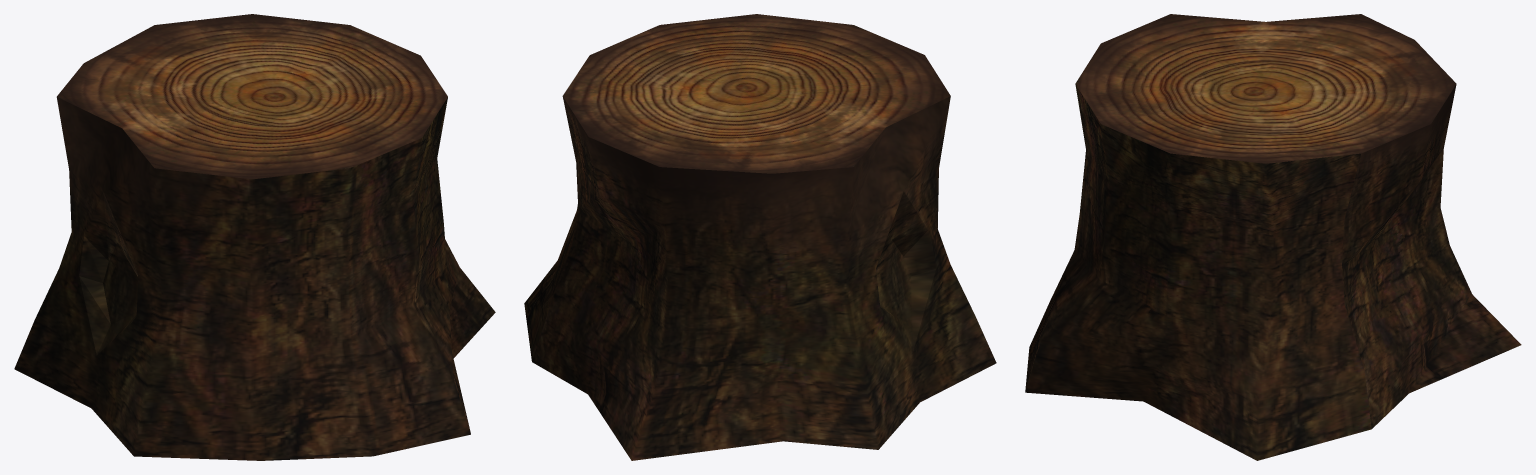
The model's file is TreeStumpModel.FBX.
3 views of the same model, side by side, from view 1: azimuth 30°, elevation 25°; view 2: azimuth 150°, elevation 25°; view 3: azimuth 270°, elevation 25° (orthographic). The views are drawn at different scales.
Parts seen in each view (by area): view 1: Tree Stump; view 2: Tree Stump; view 3: Tree Stump.
Boxes of the visible parts, bbox=[...] form: Tree Stump: bbox=[14, 14, 495, 460]; Tree Stump: bbox=[524, 14, 996, 460]; Tree Stump: bbox=[1025, 14, 1521, 460].
Size of the model in its own units: 112 by 69.28 by 118.
